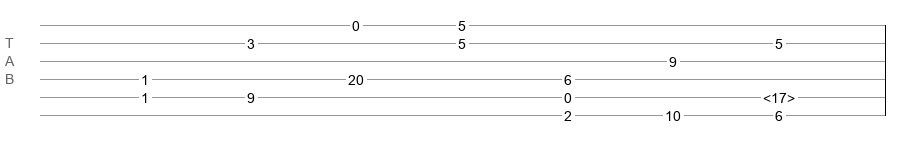0: (352, 18, 360, 28), (564, 90, 572, 100)
1: (141, 72, 149, 82), (141, 90, 149, 100)
10: (665, 108, 681, 118)
2: (564, 108, 572, 118)
20: (348, 72, 364, 82)
3: (247, 36, 255, 46)
5: (458, 18, 466, 28), (458, 36, 466, 46), (775, 36, 783, 46)
6: (564, 72, 572, 82), (775, 108, 783, 118)
9: (247, 90, 255, 100), (669, 54, 677, 64)
harmonic: (763, 90, 795, 100)
